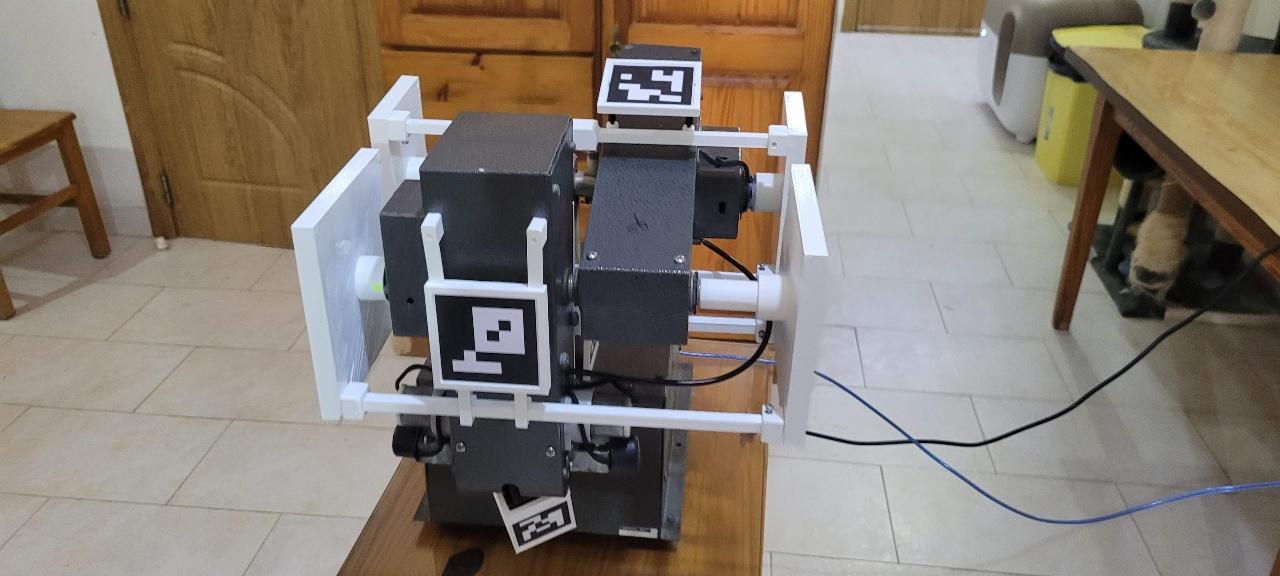Robot: (289, 42, 832, 555)
